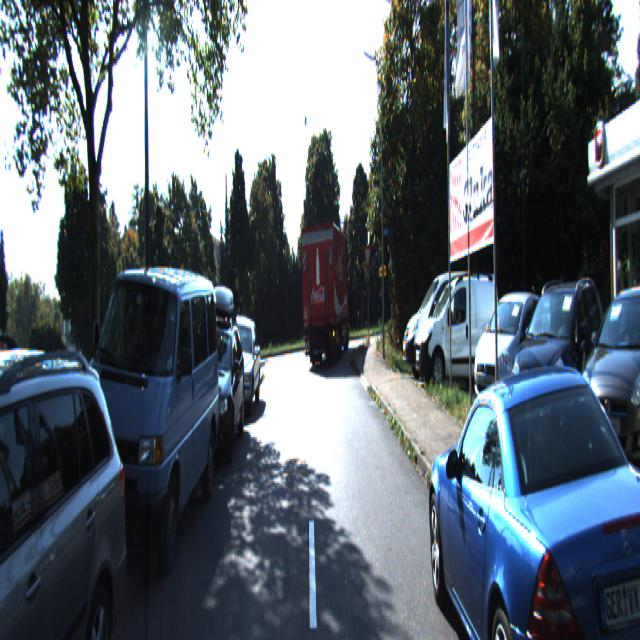Car: (424, 334, 640, 638), (0, 324, 134, 638), (506, 268, 608, 430), (574, 270, 639, 484), (177, 298, 250, 464), (471, 284, 553, 411), (413, 265, 499, 385), (218, 311, 264, 422)
Truck: (298, 217, 350, 366)
Van: (71, 246, 223, 592), (400, 265, 502, 380)
